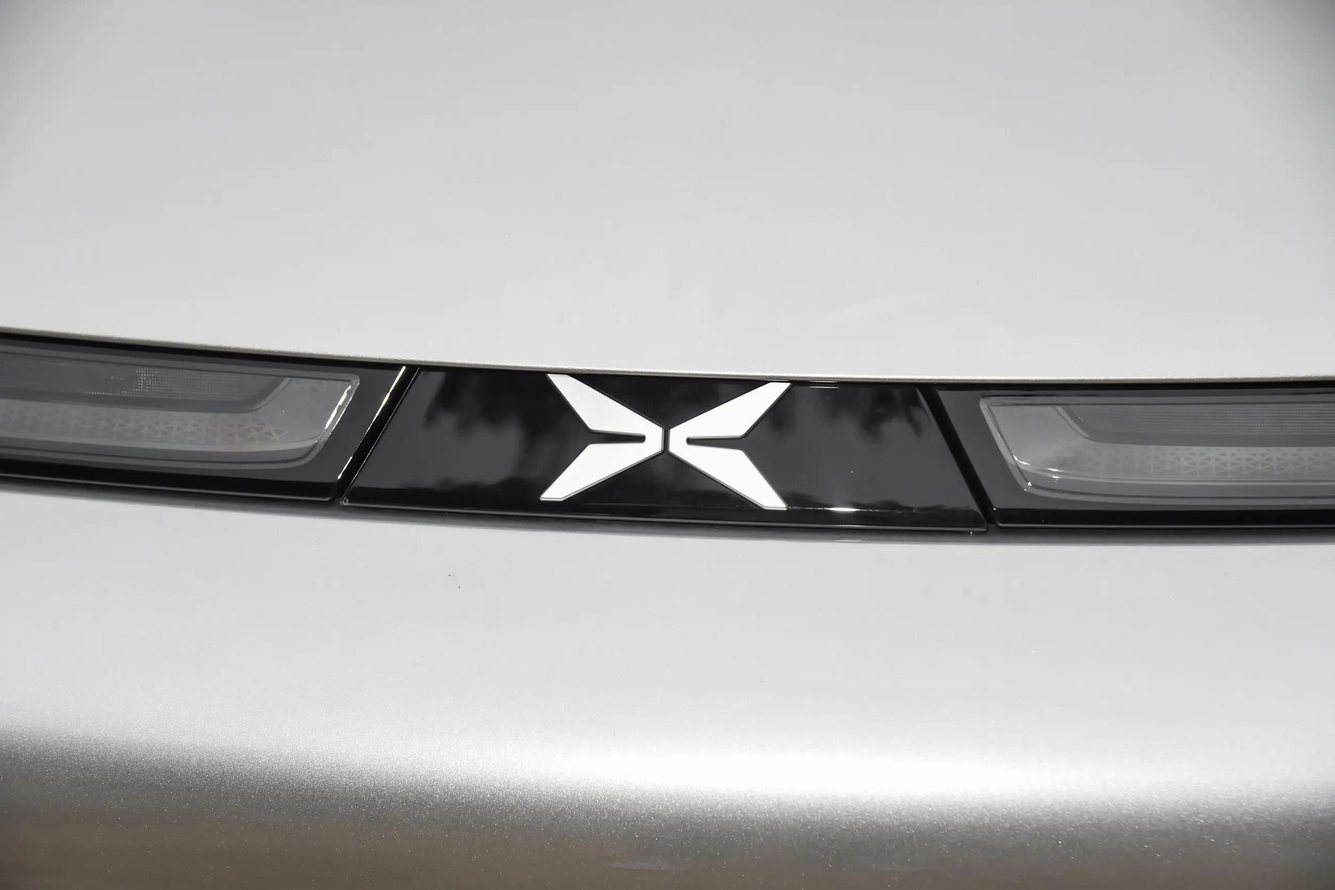XPeng Motors: (540, 374, 791, 509)
